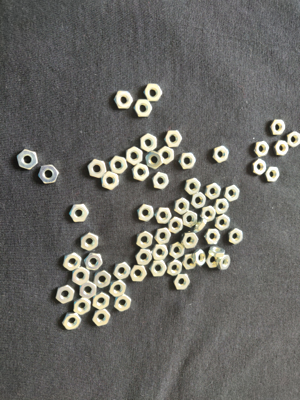nut: (38, 165, 60, 184), (18, 150, 38, 170), (56, 285, 76, 304), (63, 253, 82, 272), (84, 252, 103, 271), (93, 270, 112, 289), (109, 156, 128, 175), (69, 204, 89, 222), (81, 232, 99, 252), (101, 171, 119, 191), (63, 313, 82, 331), (72, 267, 90, 286), (88, 160, 107, 178), (114, 91, 133, 109), (134, 99, 153, 117), (144, 84, 163, 102), (145, 151, 163, 170), (93, 291, 110, 311), (73, 298, 91, 316), (113, 262, 131, 280), (132, 164, 150, 182), (137, 204, 155, 222), (108, 280, 127, 297), (126, 147, 143, 166), (158, 146, 175, 165), (136, 231, 153, 250), (80, 281, 97, 299), (93, 310, 111, 327), (114, 295, 132, 312), (153, 172, 170, 190), (165, 131, 183, 148), (179, 153, 197, 170), (135, 249, 153, 266), (154, 228, 172, 245), (181, 232, 199, 249), (141, 134, 157, 153), (213, 145, 229, 164), (155, 207, 172, 224), (149, 261, 167, 277), (151, 245, 169, 261), (185, 178, 201, 196), (130, 266, 147, 282), (215, 214, 231, 231), (254, 141, 270, 158), (270, 119, 286, 136), (200, 206, 216, 222), (224, 186, 240, 202), (168, 260, 183, 277), (170, 242, 185, 259), (175, 198, 190, 215), (183, 211, 198, 228), (206, 183, 221, 200), (214, 198, 229, 215), (169, 217, 183, 235), (174, 275, 190, 290), (182, 254, 197, 270), (191, 218, 207, 233), (191, 193, 206, 209), (205, 229, 220, 245), (253, 159, 267, 176), (193, 249, 206, 267), (274, 141, 289, 156), (217, 254, 231, 270), (229, 229, 243, 245), (266, 167, 280, 182), (287, 132, 300, 148), (209, 247, 226, 258), (206, 255, 218, 268)
